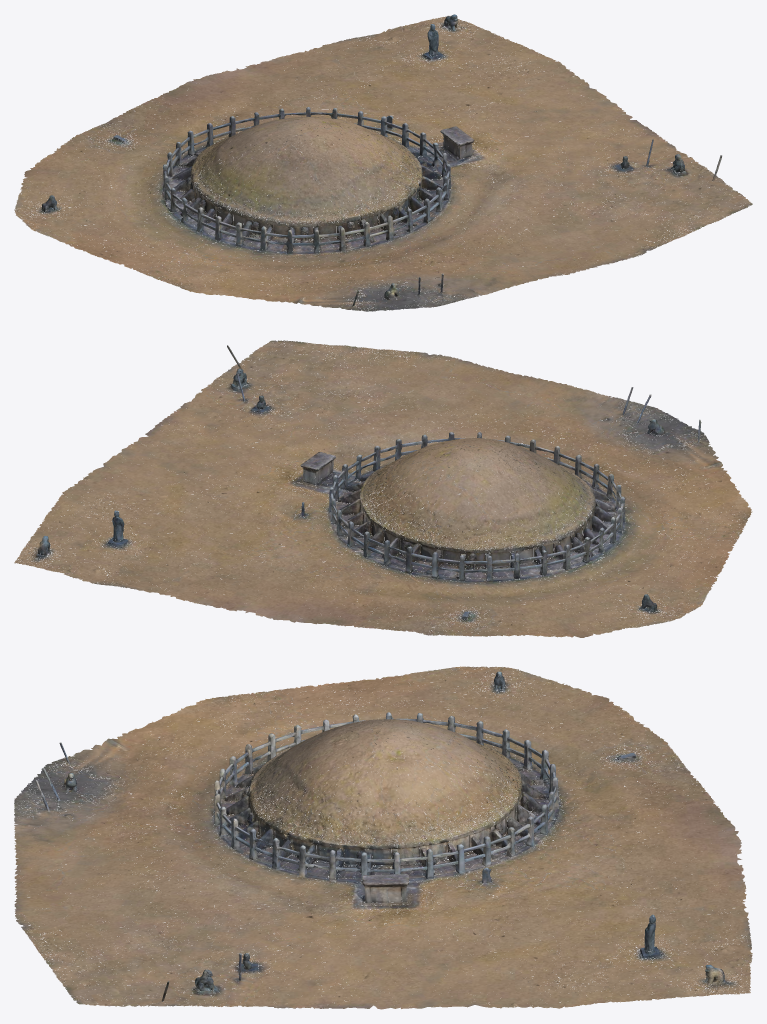
File: tomb.glb
3 views of the same model, one above another, from view 1: azimuth 30°, elevation 25°; view 2: azimuth 150°, elevation 25°; view 3: azimuth 270°, elevation 25° (orthographic). The views are drawn at different scales.
Parts seen in each view (by area): view 1: Object_3, Object_6, Object_4, Object_5, Object_2, Object_7, Object_8, Object_9, Object_10, Object_11; view 2: Object_3, Object_6, Object_4, Object_2, Object_5, Object_8, Object_7, Object_9, Object_11, Object_10; view 3: Object_3, Object_6, Object_4, Object_2, Object_5, Object_7, Object_9, Object_8, Object_10, Object_11.
Part boxes in pixels (x1,y1,x2,y2): Object_3: (23,40,752,306); Object_6: (16,14,722,310); Object_4: (45,55,707,309); Object_5: (14,21,722,307); Object_2: (82,16,750,311); Object_7: (25,26,746,309); Object_8: (17,93,741,287); Object_9: (232,16,652,310); Object_10: (187,16,748,301); Object_11: (15,97,743,290); Object_3: (92,340,752,637); Object_6: (30,347,745,632); Object_4: (72,345,739,617); Object_2: (14,342,704,635); Object_5: (20,344,736,636); Object_8: (179,344,741,634); Object_7: (35,346,739,623); Object_9: (17,398,716,612); Object_11: (207,349,749,636); Object_10: (16,341,739,618); Object_3: (15,682,746,1008); Object_6: (14,666,745,1009); Object_4: (16,678,671,1008); Object_2: (33,700,752,1008); Object_5: (16,667,737,1007); Object_7: (15,671,745,1006); Object_9: (14,729,749,1007); Object_8: (14,668,713,1006); Object_10: (15,716,751,1007); Object_11: (15,666,711,1006).
Bounding box in the file's own units: 42.14 × 4.99 × 38.43.
1 material, 1 textured.
